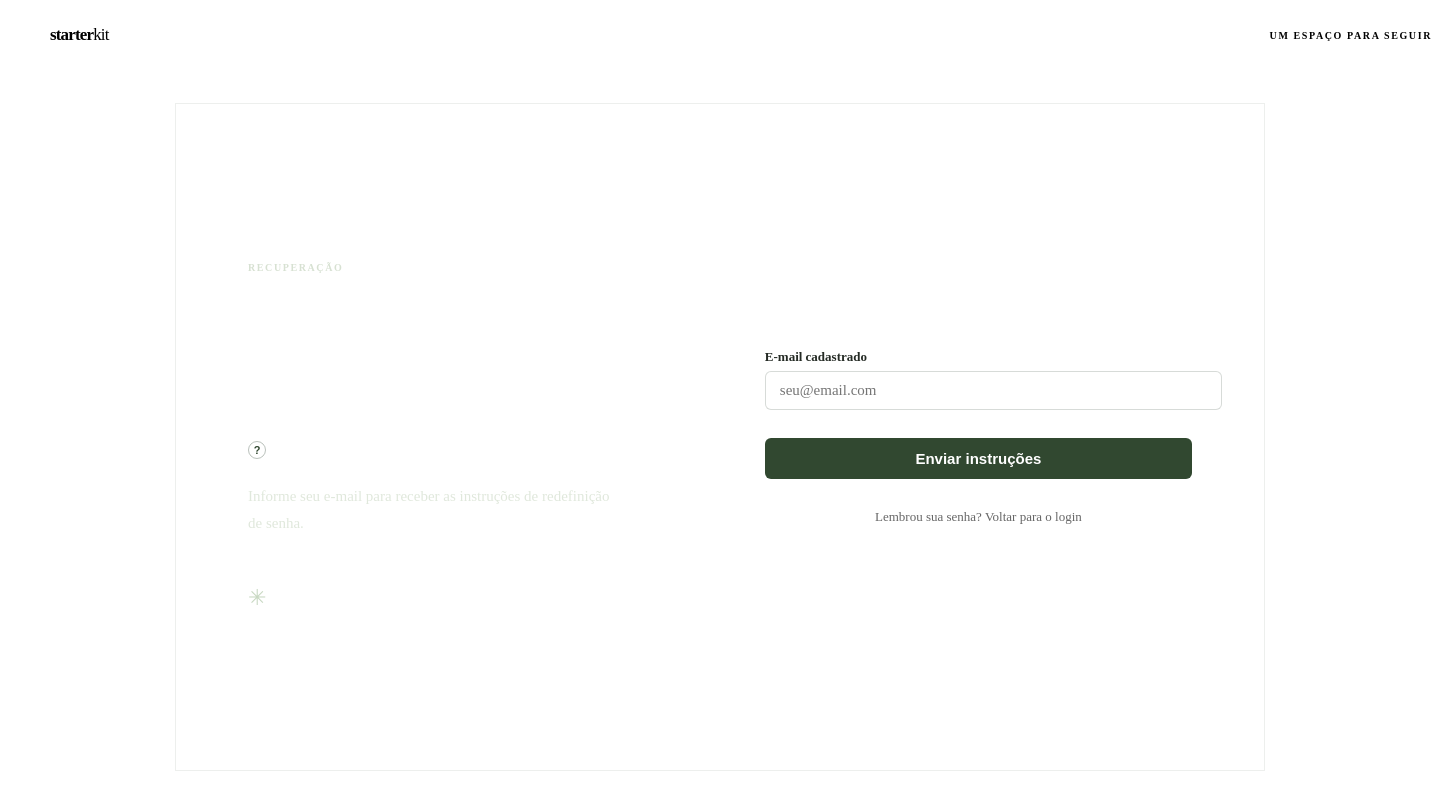
Test: ForgotPasswordPage.vue › handles 429 rate limit error with Retry-After
The image size is (1440, 810).
Type "user@example.com" into the field labelled "E-mail cadastrado" at (993, 390), box left=765, top=370, right=1222, bottom=410
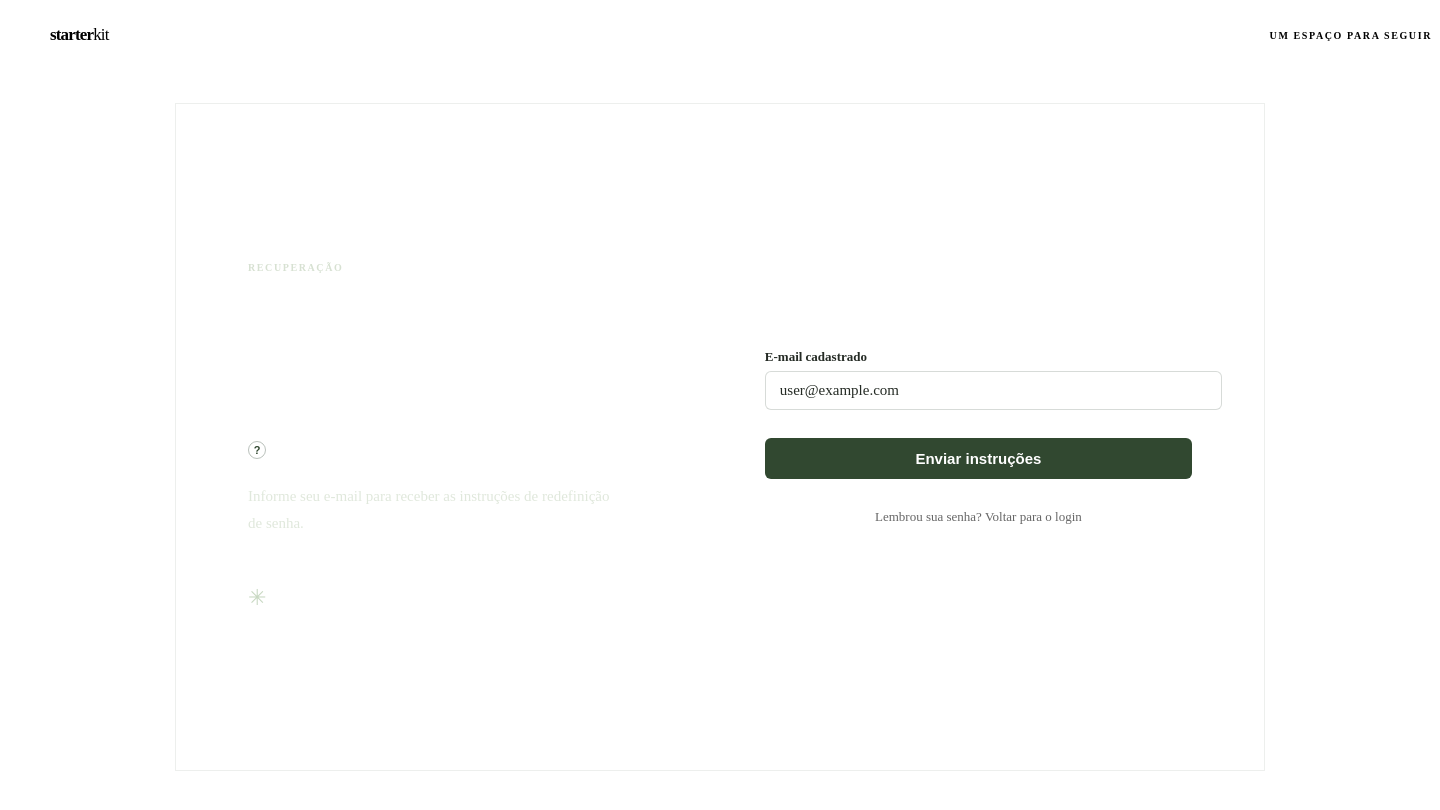
Submit the form, box left=765, top=348, right=1192, bottom=524
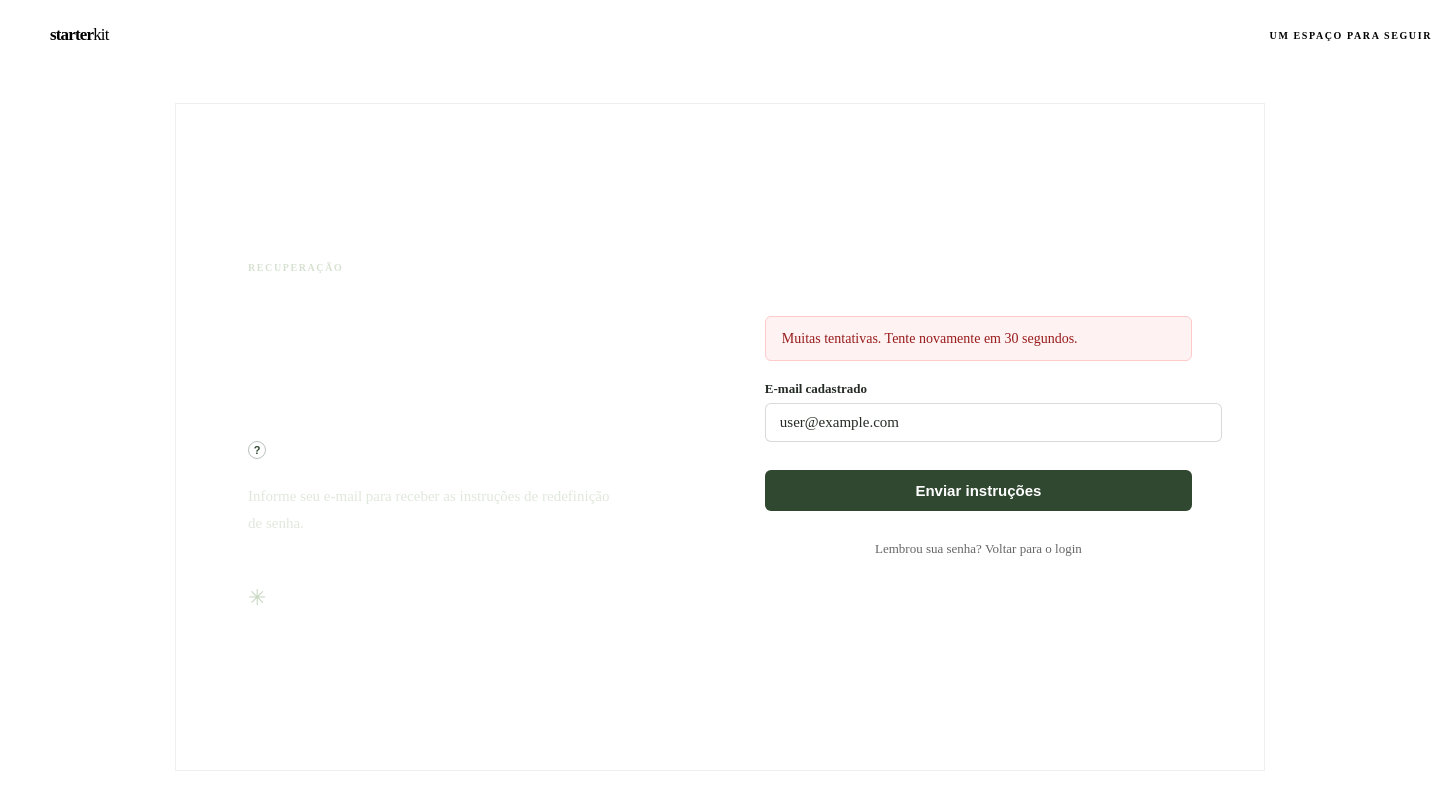
Expected: the message "Muitas tentativas. Tente novamente em 30 segundos." is shown, left=765, top=316, right=1192, bottom=361
